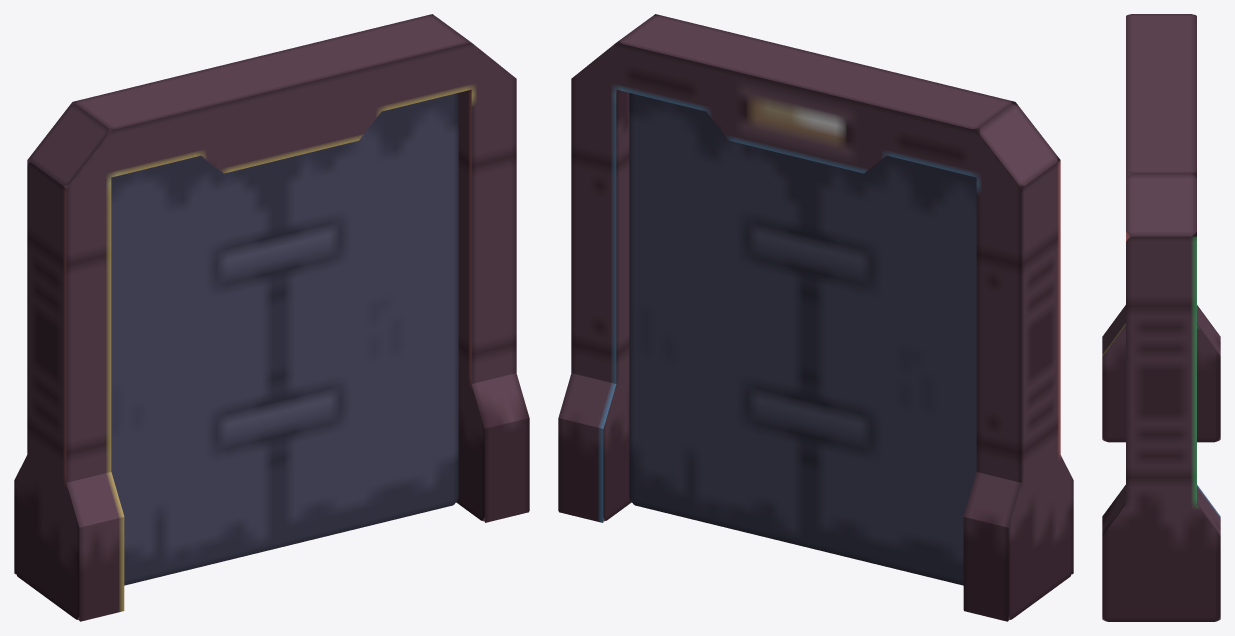
Rendered from Door.fbx.
3 renders of one model, left to right at view 1: azimuth 30°, elevation 25°; view 2: azimuth 150°, elevation 25°; view 3: azimuth 270°, elevation 25°, orthographic. The views are drawn at different scales.
Visible parts, largest first — view 1: Door; view 2: Door; view 3: Door.
Boxes of the visible parts, bbox=[...] form: Door: bbox=[14, 14, 529, 621]; Door: bbox=[558, 14, 1073, 621]; Door: bbox=[1102, 14, 1220, 621].
Size of the model in its own units: 250 by 250 by 62.5.
